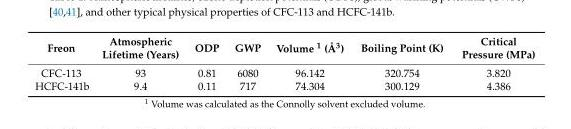table: (34, 34, 534, 92)
table column: (351, 34, 451, 92), (94, 34, 186, 92), (267, 34, 351, 92), (451, 34, 534, 92), (34, 34, 94, 92), (226, 34, 267, 92), (186, 34, 226, 92)
table column header: (34, 34, 534, 63)
table row: (34, 34, 534, 63), (34, 63, 534, 79), (34, 79, 534, 92)
